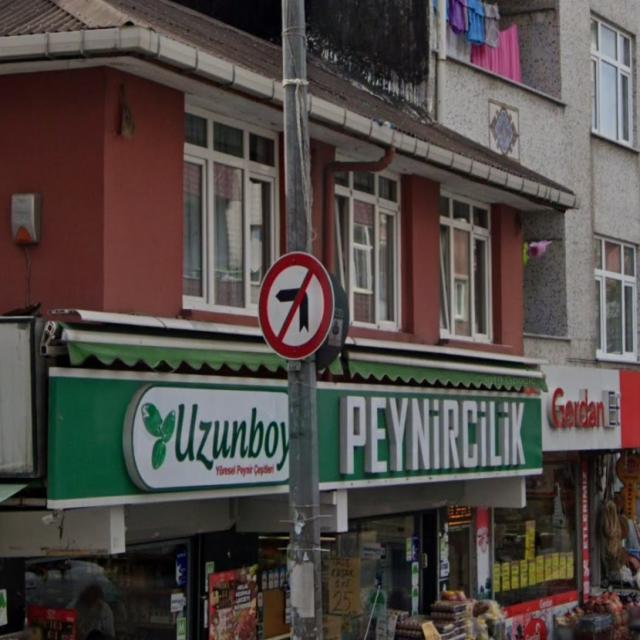soladonulmez: (256, 252, 334, 359)
